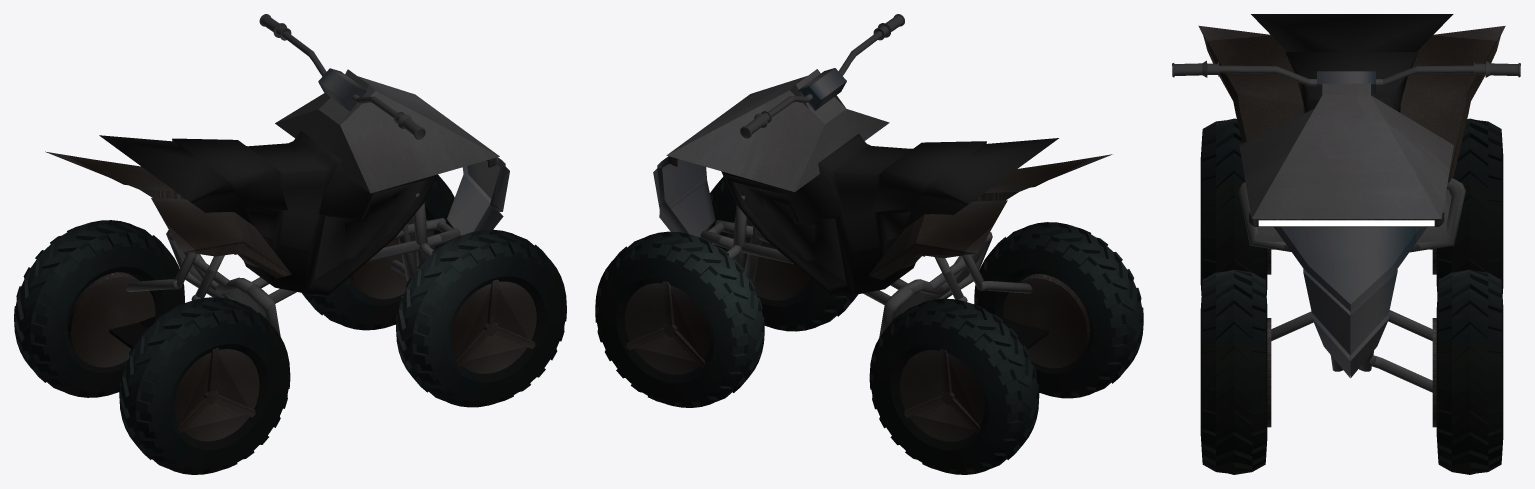
File: tesla_cyberquad.glb
3 views of the same model, side by side, from view 1: azimuth 30°, elevation 25°; view 2: azimuth 150°, elevation 25°; view 3: azimuth 270°, elevation 25° (orthographic). The views are drawn at different scales.
Visible parts, largest first — view 1: Torus.001_10, Cube.002_3, Torus_9, Cube_1, Cylinder.012_12, Cylinder.008_11, Cube.003_4, Cylinder.014_16, Plane_5, Cylinder_7, Cube.004_6, Cube.006_14 (+1 smaller); view 2: Torus.001_10, Cube.002_3, Torus_9, Cube_1, Cylinder.012_12, Cylinder.008_11, Cube.003_4, Cylinder.014_16, Plane_5, Cylinder_7, Cube.004_6, Cube.006_14 (+1 smaller); view 3: Torus_9, Cube_1, Torus.001_10, Cube.003_4, Plane_5, Cube.002_3, Cylinder.014_16, Cylinder_7, Cube.005_13, Cylinder.008_11, Cube.007_15, Cube.004_6 (+1 smaller).
Boxes of the visible parts, x1,y1,x2,y2 form: Torus.001_10: [14, 220, 290, 474]; Cube.002_3: [99, 131, 436, 295]; Torus_9: [302, 174, 566, 407]; Cube_1: [275, 69, 499, 193]; Cylinder.012_12: [67, 272, 259, 441]; Cylinder.008_11: [349, 216, 536, 373]; Cube.003_4: [45, 151, 291, 278]; Cylinder.014_16: [126, 193, 460, 336]; Plane_5: [447, 158, 509, 235]; Cylinder_7: [259, 14, 425, 139]; Cube.004_6: [318, 68, 366, 111]; Cube.006_14: [109, 316, 158, 348]; Torus.001_10: [869, 222, 1143, 474]; Cube.002_3: [721, 134, 1058, 296]; Torus_9: [595, 176, 857, 407]; Cube_1: [666, 69, 889, 192]; Cylinder.012_12: [900, 274, 1090, 441]; Cylinder.008_11: [625, 218, 810, 374]; Cube.003_4: [868, 154, 1112, 279]; Cylinder.014_16: [700, 195, 1032, 336]; Plane_5: [653, 156, 715, 237]; Cylinder_7: [740, 14, 904, 138]; Cube.004_6: [798, 68, 846, 110]; Cube.006_14: [1000, 318, 1048, 349]; Torus_9: [1200, 269, 1503, 474]; Cube_1: [1239, 83, 1453, 218]; Torus.001_10: [1200, 118, 1503, 295]; Cube.003_4: [1198, 25, 1505, 182]; Plane_5: [1274, 226, 1427, 378]; Cube.002_3: [1251, 14, 1453, 113]; Cylinder.014_16: [1238, 178, 1465, 392]; Cylinder_7: [1172, 60, 1520, 86]; Cube.005_13: [1258, 220, 1434, 226]; Cylinder.008_11: [1267, 318, 1436, 427]; Cube.007_15: [1256, 190, 1451, 243]; Cube.004_6: [1317, 71, 1375, 93].
Size of the model in its own units: 13.65 by 9.49 by 8.44.
8 materials, 6 textured.
